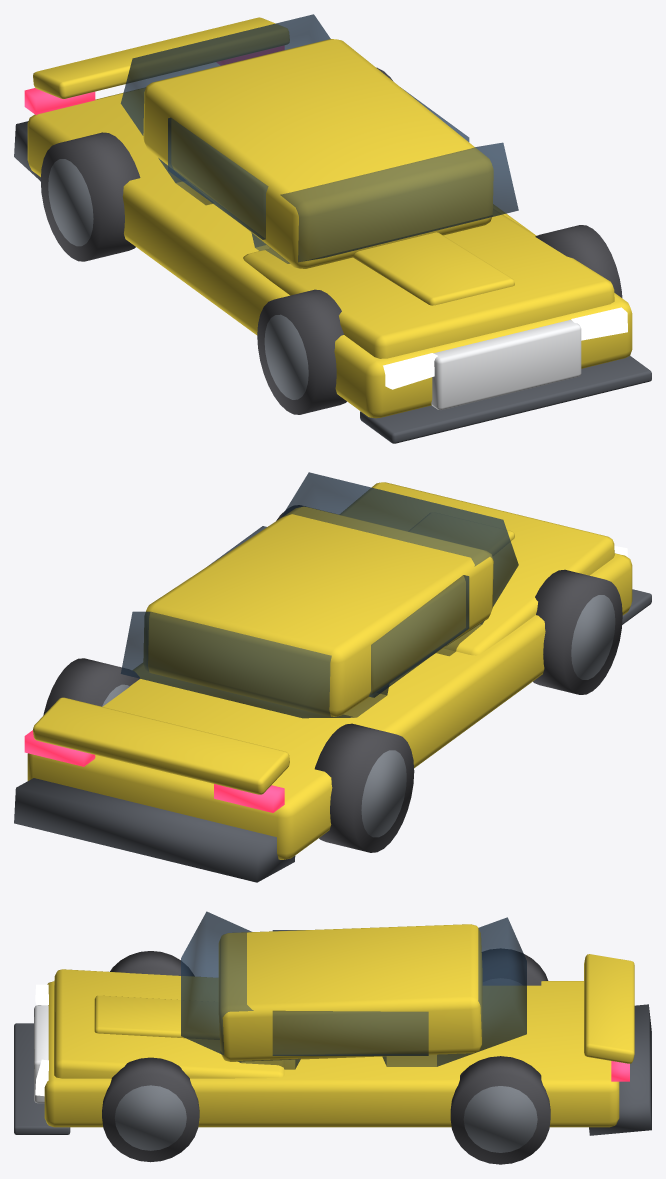
Rendered from phantom.glb.
The picture shows the model from 3 angles, top to bottom: view 1: azimuth 30°, elevation 25°; view 2: azimuth 150°, elevation 25°; view 3: azimuth 270°, elevation 25°; orthographic projection. The views are drawn at different scales.
Parts seen in each view (by area): view 1: Chassis_Cabin, Chassis_Lower, Chassis_Hood, Window_Windshield, Grille_Frame, Chassis_Ducktail, Carbon_ChinSplitter, Window_Rear, RL_Tire, Chassis_PowerDome, FL_Tire, Window_Side_L (+7 smaller); view 2: Chassis_Cabin, Chassis_Lower, Window_Rear, Carbon_RearDiffuser, Chassis_Hood, Chassis_Ducktail, Window_Windshield, RL_Tire, FL_Tire, Window_Side_L, RL_Wheel_Rim, FL_Wheel_Rim (+4 smaller); view 3: Chassis_Cabin, Chassis_Lower, Chassis_Hood, Window_Windshield, Window_Side_R, Window_Rear, Chassis_Ducktail, RR_Tire, Chassis_PowerDome, FR_Tire, RR_Wheel_Rim, FR_Wheel_Rim (+7 smaller).
Part boxes in pixels (x1,y1,x2,y2): Chassis_Cabin: (143, 39, 493, 268); Chassis_Lower: (27, 87, 632, 418); Chassis_Hood: (243, 209, 614, 358); Window_Windshield: (251, 142, 518, 263); Grille_Frame: (431, 320, 581, 409); Chassis_Ducktail: (33, 17, 289, 98); Carbon_ChinSplitter: (360, 356, 651, 443); Window_Rear: (120, 14, 330, 205); RL_Tire: (40, 132, 140, 261); Chassis_PowerDome: (353, 232, 514, 305); FL_Tire: (257, 289, 346, 414); Window_Side_L: (168, 117, 268, 239); Chassis_Cabin: (143, 506, 493, 716); Chassis_Lower: (27, 553, 632, 859); Window_Rear: (120, 611, 388, 718); Carbon_RearDiffuser: (14, 778, 295, 882); Chassis_Hood: (340, 482, 614, 655); Chassis_Ducktail: (33, 697, 289, 794); Window_Windshield: (281, 472, 518, 655); RL_Tire: (314, 723, 414, 852); FL_Tire: (533, 569, 622, 694); Window_Side_L: (369, 575, 469, 697); RL_Wheel_Rim: (361, 750, 406, 837); FL_Wheel_Rim: (571, 595, 615, 679); Chassis_Cabin: (218, 924, 482, 1061); Chassis_Lower: (44, 981, 619, 1127); Chassis_Hood: (54, 969, 284, 1078); Window_Windshield: (181, 911, 300, 1069); Window_Side_R: (272, 1010, 428, 1055); Window_Rear: (382, 917, 526, 1066); Chassis_Ducktail: (584, 954, 634, 1063); RR_Tire: (450, 1056, 550, 1164); Chassis_PowerDome: (94, 995, 219, 1039); FR_Tire: (102, 1057, 199, 1162); RR_Wheel_Rim: (463, 1086, 537, 1152); FR_Wheel_Rim: (114, 1085, 186, 1150).
Size of the model in its own units: 2.39 by 1.34 by 5.11.
